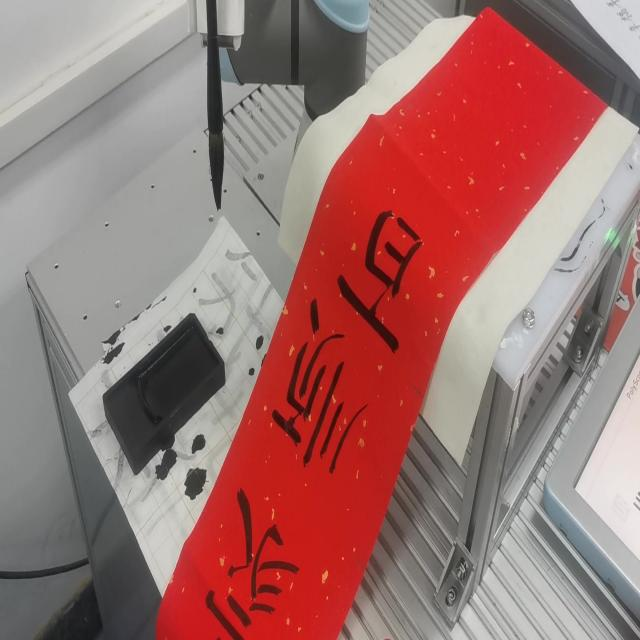head: (204, 128, 228, 212)
inkstone: (100, 308, 228, 474)
